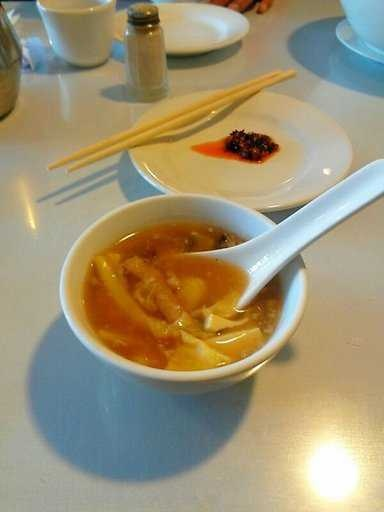soup: (61, 207, 298, 367)
